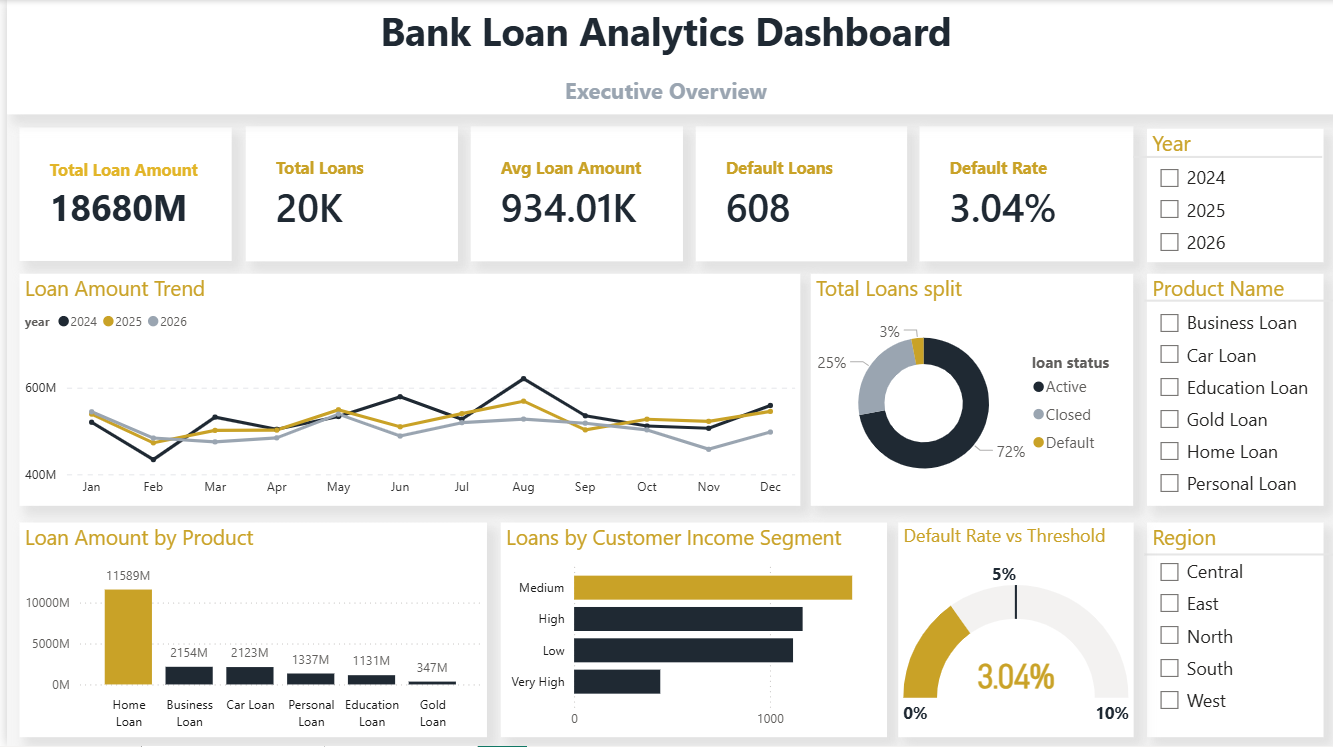

The dashboard page shown, as its layout file describes it:
{"tool":"powerbi","page":{"name":"Executive Overview","canvas":[1280,720],"ordinal":0},"visuals":[{"type":"cardVisual","fields":{"Data":["Key_Measures.Total Loan Amount"]},"box":[12.5,122.7,205,128.8],"z":0},{"type":"cardVisual","fields":{"Data":["Key_Measures.Total Loans"]},"box":[230,122.1,205,130],"z":1000},{"type":"cardVisual","fields":{"Data":["Key_Measures.Avg Loan Amount"]},"box":[447.5,122.1,205,130],"z":2000},{"type":"cardVisual","fields":{"Data":["Key_Measures.Default Loans"]},"box":[665,122.1,203.8,130],"z":3000},{"type":"cardVisual","fields":{"Data":["Key_Measures.Default Rate"]},"box":[881.2,122.1,206.2,130],"z":4000},{"type":"lineChart","title":"Loan Amount Trend","fields":{"Category":["bank_analytics dim_date.month_name"],"Y":["Key_Measures.Total Loan Amount"],"Series":["bank_analytics dim_date.year"]},"box":[12.5,263.8,753.8,223.8],"z":5000},{"type":"clusteredColumnChart","title":"Loan Amount by Product","fields":{"Category":["bank_analytics dim_product.product_name"],"Y":["Key_Measures.Total Loan Amount"]},"box":[12.5,503.8,451.2,207.5],"z":6000},{"type":"donutChart","title":"Total Loans split","fields":{"Category":["bank_analytics fact_loans.loan_status"],"Y":["Key_Measures.Total Loans"]},"box":[776.2,263.8,311.2,223.8],"z":7000},{"type":"shape","box":[0,0,1280,101.2],"z":8000},{"type":"textbox","box":[0,0,1280,110],"z":9000},{"type":"shape","box":[1245,0,35,110],"z":10000},{"type":"slicer","title":"Year","fields":{"Values":["bank_analytics dim_date.year"]},"box":[1100,124.3,170,128.8],"z":11000},{"type":"slicer","title":"Product Name","fields":{"Values":["bank_analytics dim_product.product_name"]},"box":[1100,263.8,170,223.8],"z":12000},{"type":"clusteredBarChart","title":"Loans by Customer Income Segment","fields":{"Category":["bank_analytics dim_customer.income_band"],"Y":["Key_Measures.Total Loans"]},"box":[476.2,503.8,372.5,207.5],"z":13000},{"type":"slicer","title":"Region","fields":{"Values":["bank_analytics dim_branch.region"]},"box":[1100,503.8,170,207.5],"z":14000},{"type":"shape","box":[1087.5,115,182.5,73.8],"z":15000},{"type":"shape","box":[1097.5,253.8,182.5,73.8],"z":16000},{"type":"shape","box":[1097.5,498.8,182.5,73.8],"z":17000},{"type":"gauge","title":"Default Rate vs Threshold","fields":{"Y":["Key_Measures.Default Rate"],"MaxValue":["Key_Measures.Default Max"],"TargetValue":["Key_Measures.Default Target"]},"box":[860,503.8,227.5,207.5],"z":18000}]}

Visuals, with their boxes in screenshot pixels (x1, y1, x2, y2), scaled from the page's 1280x720 canvas onto the 1333x747 screenshot:
cardVisual - Key_Measures.Total Loan Amount: region(13, 127, 227, 261)
cardVisual - Key_Measures.Total Loans: region(240, 127, 453, 262)
cardVisual - Key_Measures.Avg Loan Amount: region(466, 127, 680, 262)
cardVisual - Key_Measures.Default Loans: region(693, 127, 905, 262)
cardVisual - Key_Measures.Default Rate: region(918, 127, 1132, 262)
"Loan Amount Trend" lineChart: region(13, 274, 798, 506)
"Loan Amount by Product" clusteredColumnChart: region(13, 523, 483, 738)
"Total Loans split" donutChart: region(808, 274, 1132, 506)
shape: region(0, 0, 1332, 105)
textbox: region(0, 0, 1332, 114)
shape: region(1297, 0, 1332, 114)
"Year" slicer: region(1146, 129, 1323, 263)
"Product Name" slicer: region(1146, 274, 1323, 506)
"Loans by Customer Income Segment" clusteredBarChart: region(496, 523, 884, 738)
"Region" slicer: region(1146, 523, 1323, 738)
shape: region(1133, 119, 1323, 196)
shape: region(1143, 263, 1332, 340)
shape: region(1143, 518, 1332, 594)
"Default Rate vs Threshold" gauge: region(896, 523, 1133, 738)
